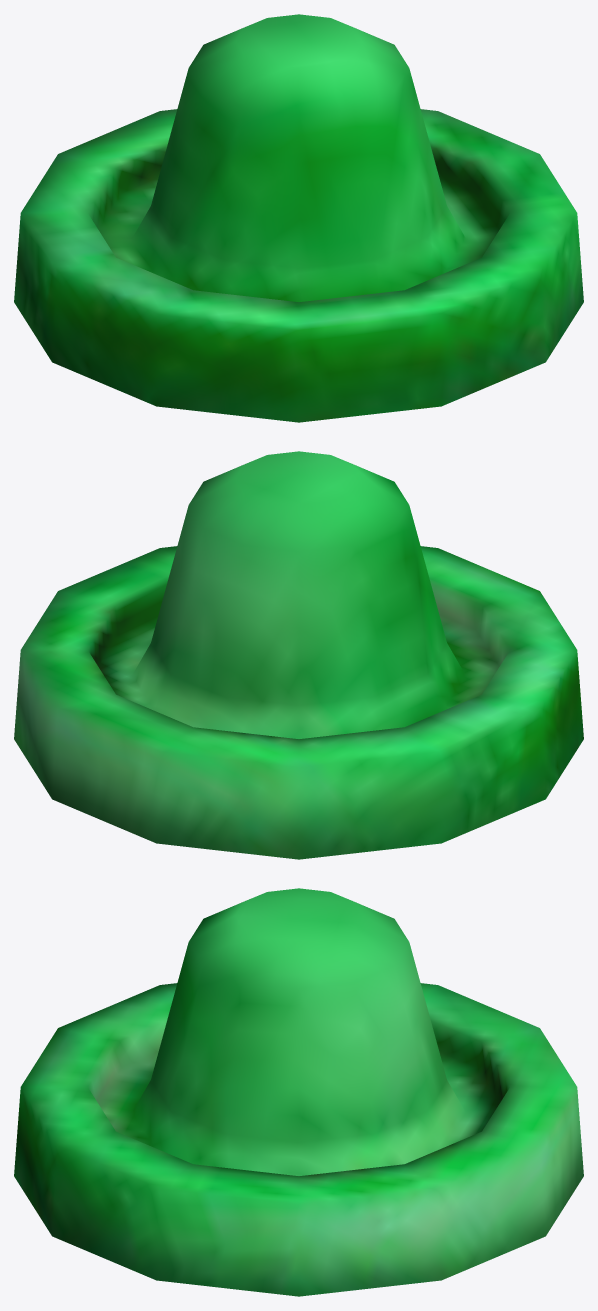
File: striker.obj
The picture shows the model from 3 angles, top to bottom: view 1: azimuth 30°, elevation 25°; view 2: azimuth 150°, elevation 25°; view 3: azimuth 270°, elevation 25°; orthographic projection.
Visible parts, largest first — view 1: Object001; view 2: Object001; view 3: Object001.
Part boxes in pixels (<box>): Object001: <box>14,14,583,422</box>; Object001: <box>14,451,583,859</box>; Object001: <box>14,888,583,1296</box>.
Bounding box in the file's own units: 7.39 × 3.73 × 7.39.
Materials: 1 (1 with a texture image).
